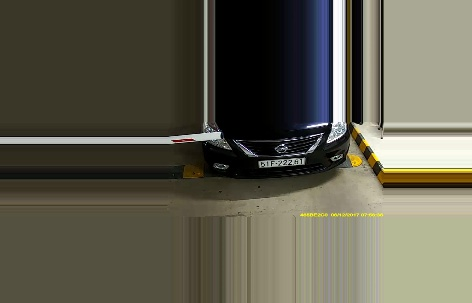plate: (257, 155, 307, 170)
